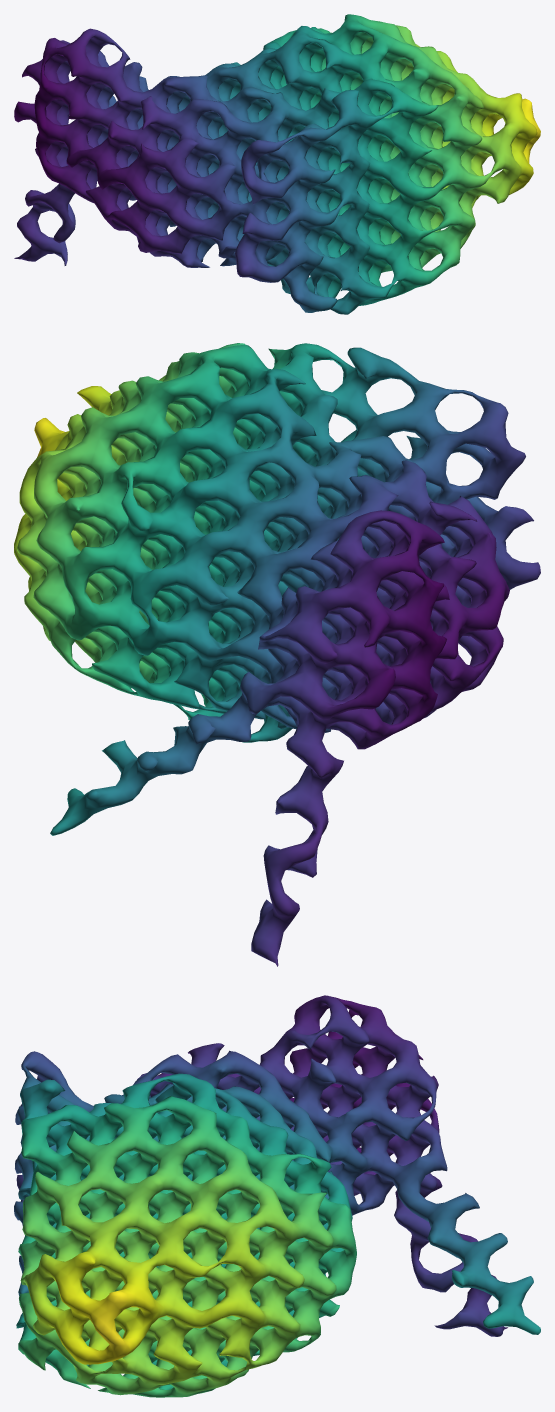
The model's file is bunny_TPMS.obj.
3 renders of one model, top to bottom at view 1: azimuth 30°, elevation 25°; view 2: azimuth 150°, elevation 25°; view 3: azimuth 270°, elevation 25°, orthographic. The views are drawn at different scales.
Bounding box in the file's own units: 1.99 × 1.4 × 1.96.
